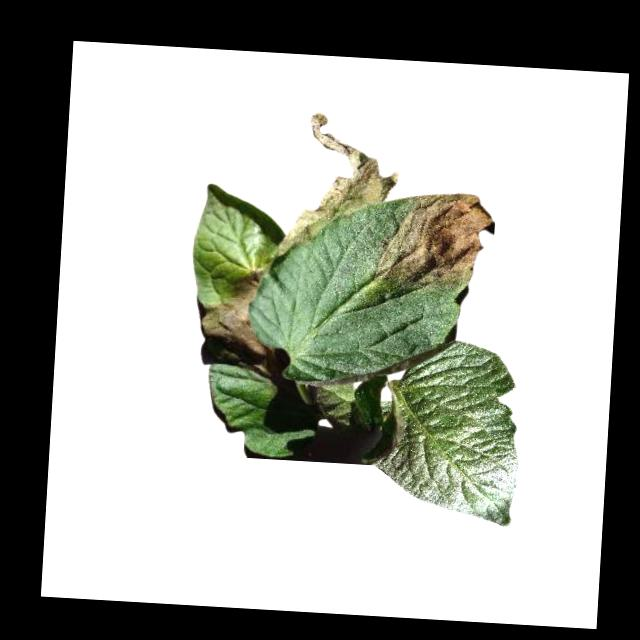Late_blight: (276, 110, 399, 265), (373, 188, 500, 295), (199, 264, 287, 377)
healthy: (370, 335, 529, 528)
